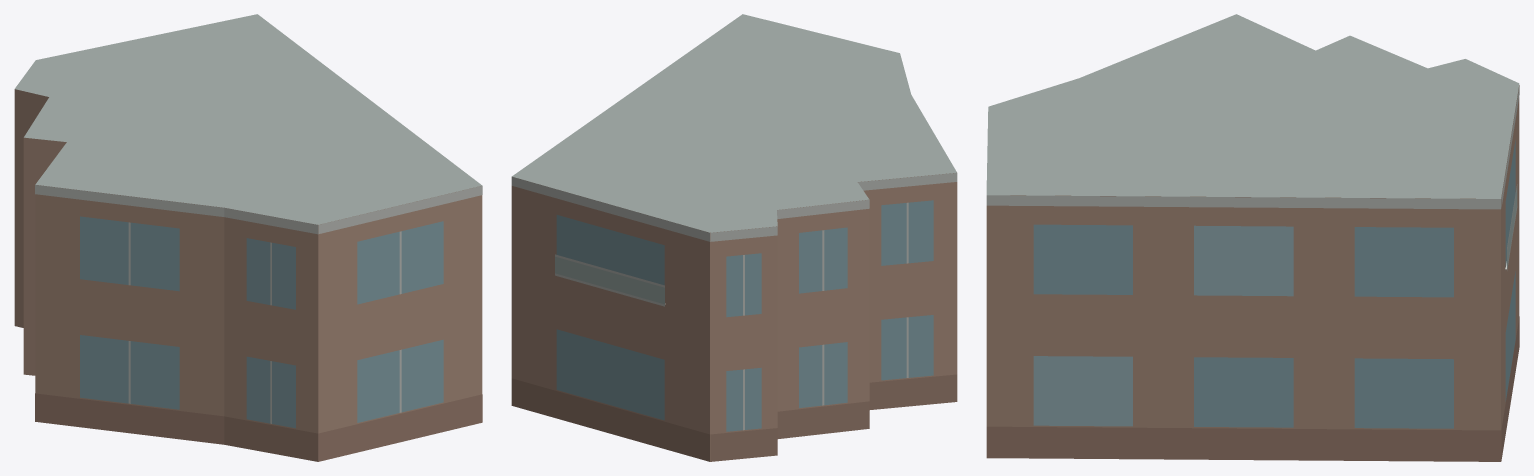
Rendered from survey-upis-32672576.glb.
3 renders of one model, left to right at view 1: azimuth 30°, elevation 25°; view 2: azimuth 150°, elevation 25°; view 3: azimuth 270°, elevation 25°, orthographic. The views are drawn at different scales.
Visible parts, largest first — view 1: survey-upis-32672576.tmp; view 2: survey-upis-32672576.tmp; view 3: survey-upis-32672576.tmp.
Part boxes in pixels (x1=…): survey-upis-32672576.tmp: x1=14, y1=14, x2=482, y2=461; survey-upis-32672576.tmp: x1=511, y1=14, x2=957, y2=461; survey-upis-32672576.tmp: x1=986, y1=14, x2=1519, y2=461.
Bounding box in the file's own units: 9.21 × 6.1 × 11.22.
